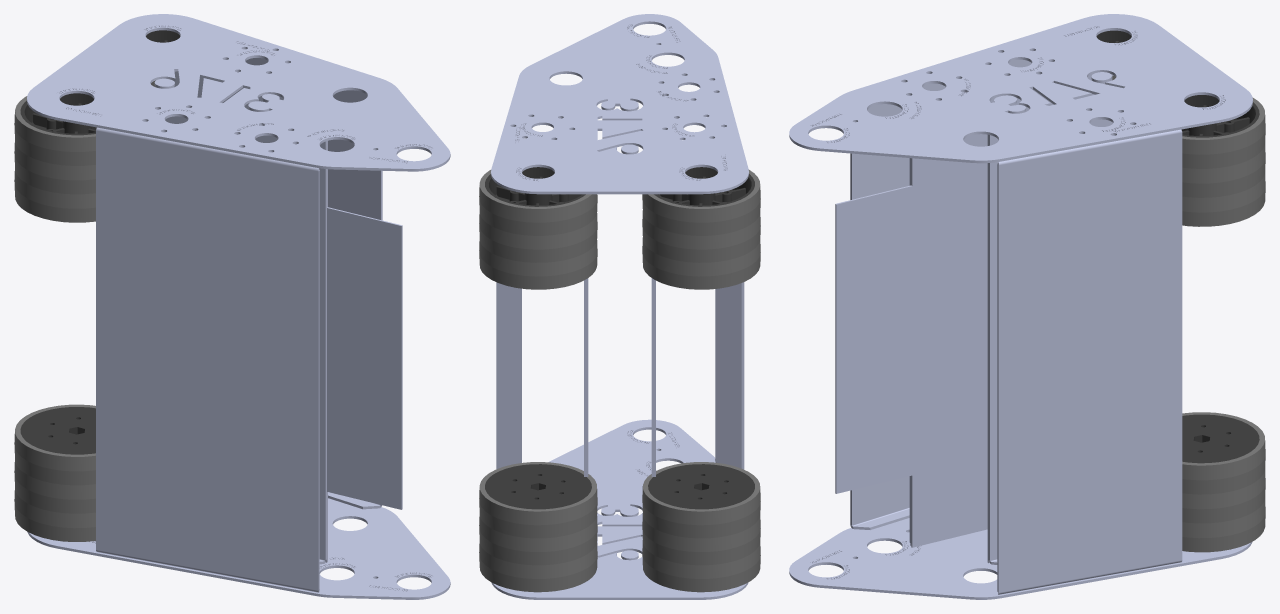
3 renders of one model, left to right at view 1: azimuth 30°, elevation 25°; view 2: azimuth 150°, elevation 25°; view 3: azimuth 270°, elevation 25°, orthographic. The views are drawn at different scales.
Parts seen in each view (by area): view 1: NAUO7, NAUO15, NAUO5, NAUO2, NAUO18, NAUO19, NAUO8, NAUO3, NAUO16, NAUO21, NAUO17, NAUO20; view 2: NAUO15, NAUO2, NAUO11, NAUO18, NAUO7, NAUO12, NAUO19, NAUO8, NAUO14, NAUO21, NAUO13, NAUO16 (+8 smaller); view 3: NAUO8, NAUO5, NAUO15, NAUO2, NAUO11, NAUO7, NAUO4, NAUO12, NAUO9, NAUO14, NAUO10, NAUO13 (+1 smaller).
Part boxes in pixels (x1,y1,x2,y2): NAUO7: (96,127,319,592); NAUO15: (27,14,450,171); NAUO5: (326,141,402,562); NAUO2: (27,498,450,599); NAUO18: (14,404,95,485); NAUO19: (14,93,96,165); NAUO8: (237,58,382,509); NAUO3: (165,116,326,564); NAUO16: (14,488,95,541); NAUO21: (14,169,95,222); NAUO17: (14,460,95,513); NAUO20: (14,141,95,194); NAUO15: (491,14,748,194); NAUO2: (491,419,748,599); NAUO11: (479,462,597,538); NAUO18: (642,462,760,538); NAUO7: (710,80,744,469); NAUO12: (479,167,597,235); NAUO19: (642,167,760,235); NAUO8: (496,282,521,469); NAUO14: (479,239,597,289); NAUO21: (642,237,760,289); NAUO13: (479,212,597,262); NAUO16: (642,540,760,592); NAUO8: (997,129,1182,594); NAUO5: (835,73,1113,547); NAUO15: (789,14,1252,163); NAUO2: (789,518,1252,599); NAUO11: (1182,412,1265,494); NAUO7: (850,51,1032,529); NAUO4: (988,110,1112,564); NAUO12: (1181,95,1265,168); NAUO9: (1182,498,1265,552); NAUO14: (1182,173,1265,226); NAUO10: (1182,469,1265,523); NAUO13: (1182,144,1265,197).
Size of the model in its own units: 0.2862 by 0.3856 by 0.379.
